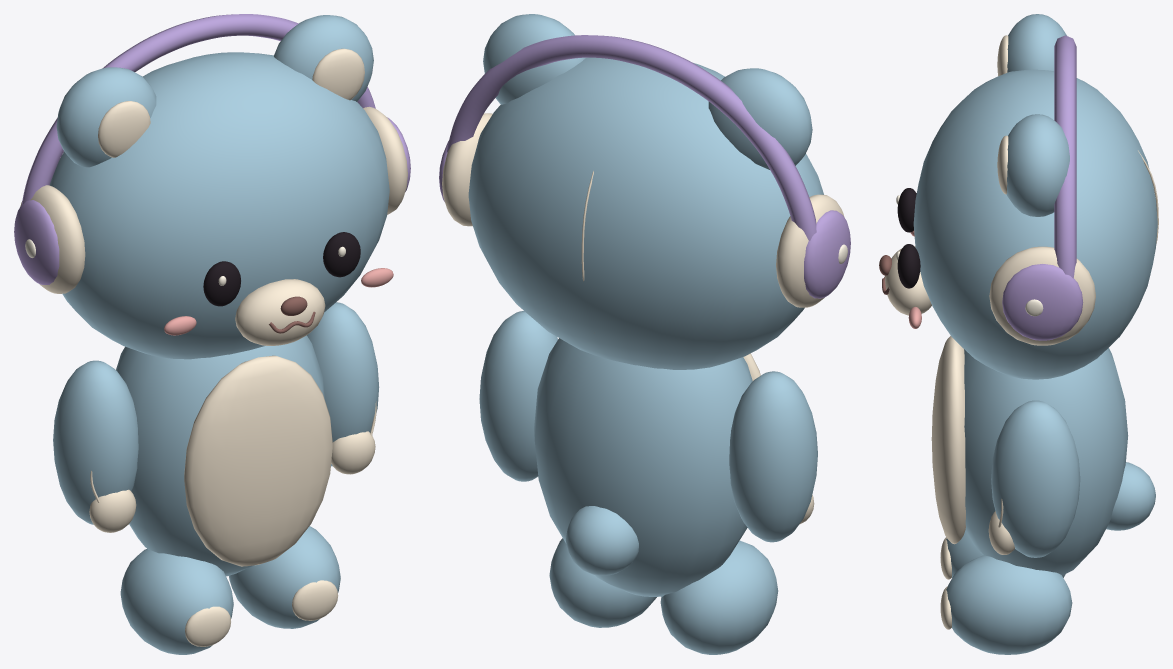
Rendered from sky-bear.glb.
3 renders of one model, left to right at view 1: azimuth 30°, elevation 25°; view 2: azimuth 150°, elevation 25°; view 3: azimuth 270°, elevation 25°, orthographic. The views are drawn at different scales.
Parts seen in each view (by area): view 1: HeadSurface, BodySurface, LeftArmSurface, LeftFootSurface, RightArmSurface, RightFootSurface, RightEyeSurface, LeftEyeSurface; view 2: HeadSurface, BodySurface, LeftArmSurface, RightArmSurface, LeftFootSurface, RightFootSurface, Bear tail; view 3: HeadSurface, BodySurface, RightArmSurface, RightFootSurface, Bear tail, LeftFootSurface, RightEyeSurface, LeftEyeSurface.
Part boxes in pixels (left/top/right/bottom): HeadSurface: left=14, top=14, right=410, bottom=359; BodySurface: left=116, top=335, right=332, bottom=576; LeftArmSurface: left=53, top=360, right=138, bottom=532; LeftFootSurface: left=120, top=549, right=233, bottom=654; RightArmSurface: left=307, top=302, right=379, bottom=474; RightFootSurface: left=229, top=526, right=340, bottom=628; RightEyeSurface: left=323, top=232, right=360, bottom=277; LeftEyeSurface: left=203, top=261, right=240, bottom=306; HeadSurface: left=439, top=14, right=850, bottom=369; BodySurface: left=534, top=338, right=760, bottom=596; LeftArmSurface: left=729, top=371, right=817, bottom=542; RightArmSurface: left=479, top=311, right=557, bottom=481; LeftFootSurface: left=660, top=540, right=778, bottom=654; RightFootSurface: left=549, top=538, right=656, bottom=627; Bear tail: left=566, top=506, right=638, bottom=575; HeadSurface: left=879, top=14, right=1158, bottom=379; BodySurface: left=931, top=336, right=1128, bottom=575; RightArmSurface: left=988, top=400, right=1080, bottom=557; RightFootSurface: left=940, top=555, right=1072, bottom=654; Bear tail: left=1106, top=462, right=1155, bottom=530; LeftFootSurface: left=940, top=530, right=1065, bottom=579; RightEyeSurface: left=896, top=244, right=920, bottom=288; LeftEyeSurface: left=896, top=188, right=916, bottom=232.
Bounding box in the file's own units: 1.2 × 1.8 × 0.802.
